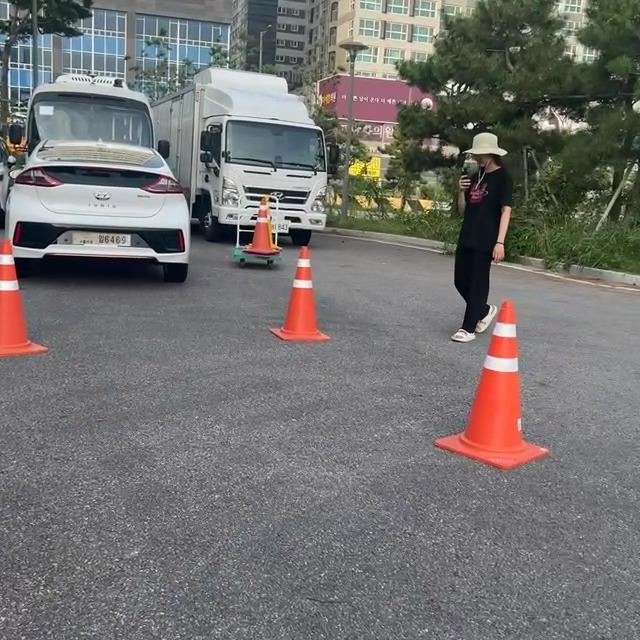fallen_object: (417, 305, 569, 502), (232, 249, 362, 386), (0, 216, 78, 404), (210, 173, 292, 285)
